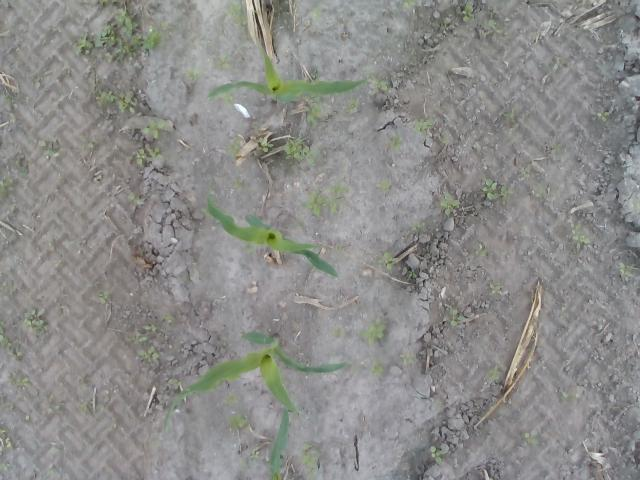Maize: (162, 331, 351, 430), (206, 198, 340, 278), (207, 43, 367, 106), (270, 407, 288, 480)
Weeds: (70, 7, 170, 63), (302, 183, 352, 216), (282, 135, 322, 169), (480, 175, 514, 206), (95, 88, 136, 113), (0, 319, 24, 360), (354, 319, 388, 346), (222, 0, 248, 34), (502, 104, 522, 146), (129, 145, 163, 166), (302, 441, 320, 480), (22, 308, 48, 334), (366, 72, 394, 94), (37, 140, 65, 162), (438, 191, 462, 216), (142, 118, 170, 139), (304, 96, 322, 128), (375, 249, 399, 273), (570, 222, 592, 248), (225, 413, 251, 432), (136, 344, 160, 364), (459, 0, 478, 24), (80, 401, 114, 414), (618, 262, 638, 282), (448, 306, 466, 328), (227, 133, 242, 159), (211, 54, 235, 70), (0, 174, 14, 200), (414, 118, 434, 136), (484, 19, 506, 35), (0, 427, 14, 452), (257, 134, 274, 153), (182, 68, 206, 81), (389, 127, 402, 151), (430, 444, 444, 465), (399, 351, 416, 368), (345, 96, 361, 112), (472, 240, 488, 256), (1, 94, 17, 110), (368, 360, 384, 376), (489, 282, 505, 298), (530, 181, 545, 198), (374, 177, 391, 192), (97, 289, 112, 306), (360, 64, 378, 78), (8, 375, 30, 386), (126, 334, 148, 345), (432, 15, 448, 30), (44, 401, 64, 413), (596, 110, 612, 124), (80, 136, 96, 150), (224, 392, 240, 406), (18, 160, 30, 178), (142, 322, 160, 334), (558, 302, 569, 320), (279, 17, 292, 32), (166, 378, 182, 390), (406, 47, 416, 66), (0, 401, 17, 412), (30, 74, 42, 89), (160, 312, 178, 322), (329, 328, 346, 338), (553, 54, 567, 66), (231, 177, 243, 191), (410, 223, 428, 232), (207, 176, 217, 192), (311, 6, 321, 22), (286, 222, 304, 230), (402, 0, 416, 10), (560, 392, 577, 400), (238, 458, 248, 471), (551, 142, 561, 154), (487, 367, 497, 379), (95, 0, 114, 6), (630, 198, 640, 209), (519, 167, 530, 177), (408, 268, 417, 280), (249, 449, 261, 458), (392, 239, 405, 247), (336, 238, 342, 255), (128, 191, 138, 201), (439, 134, 448, 145), (520, 431, 530, 440), (48, 468, 62, 474), (0, 462, 9, 471), (240, 40, 250, 48), (22, 415, 32, 422), (320, 220, 330, 226)
